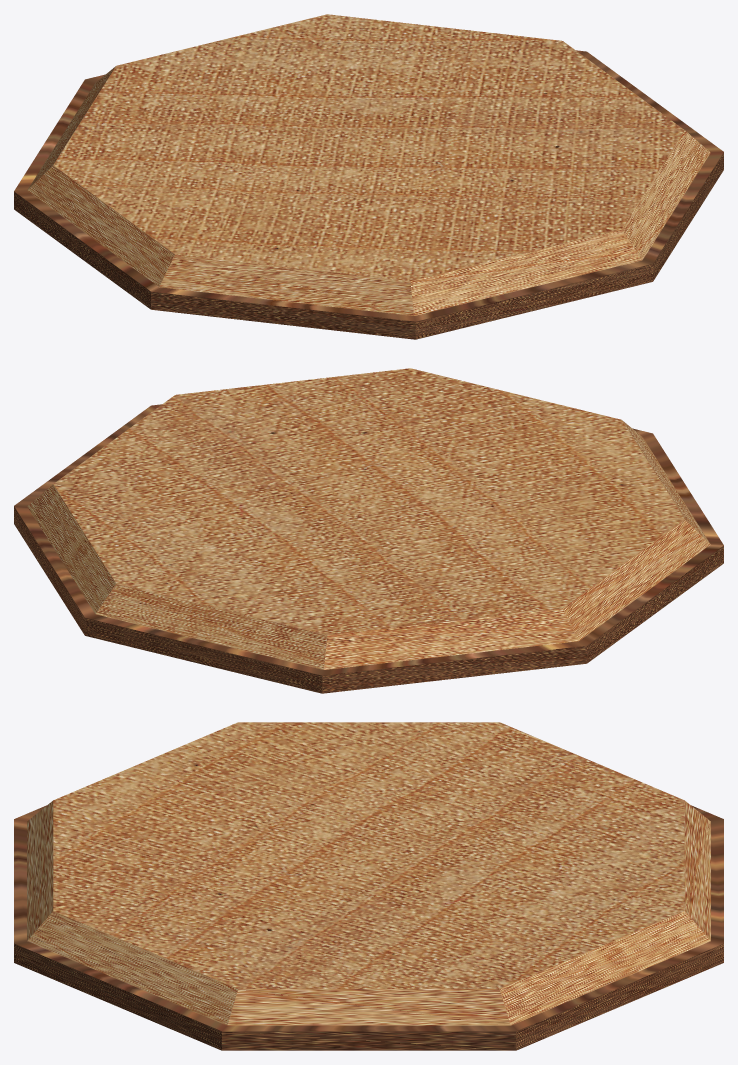
File: Octogon.FBX
3 views of the same model, one above another, from view 1: azimuth 30°, elevation 25°; view 2: azimuth 150°, elevation 25°; view 3: azimuth 270°, elevation 25° (orthographic). The views are drawn at different scales.
Visible parts, largest first — view 1: Octogon; view 2: Octogon; view 3: Octogon.
Part boxes in pixels (left/top/right/bottom): Octogon: left=14, top=14, right=723, bottom=339; Octogon: left=14, top=368, right=723, bottom=693; Octogon: left=14, top=722, right=723, bottom=1050.
Size of the model in its own units: 25.07 by 25.07 by 2.27.
